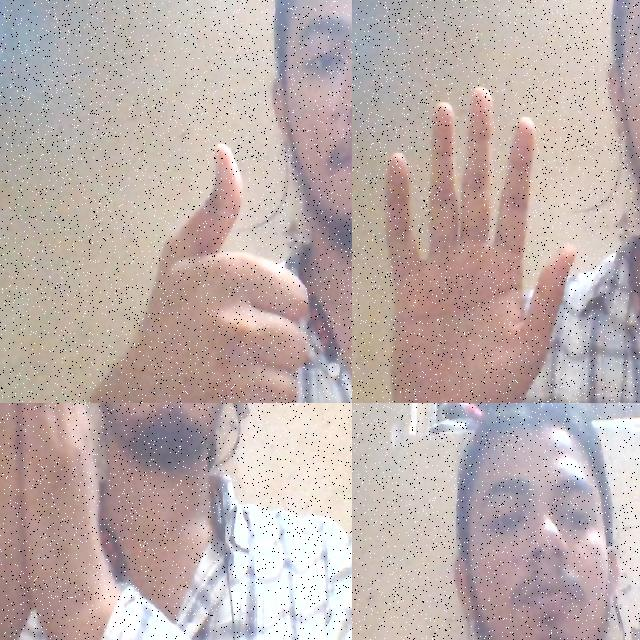Hello: (352, 62, 589, 403)
Thank You: (0, 403, 130, 607)
Yes: (130, 138, 311, 403)
